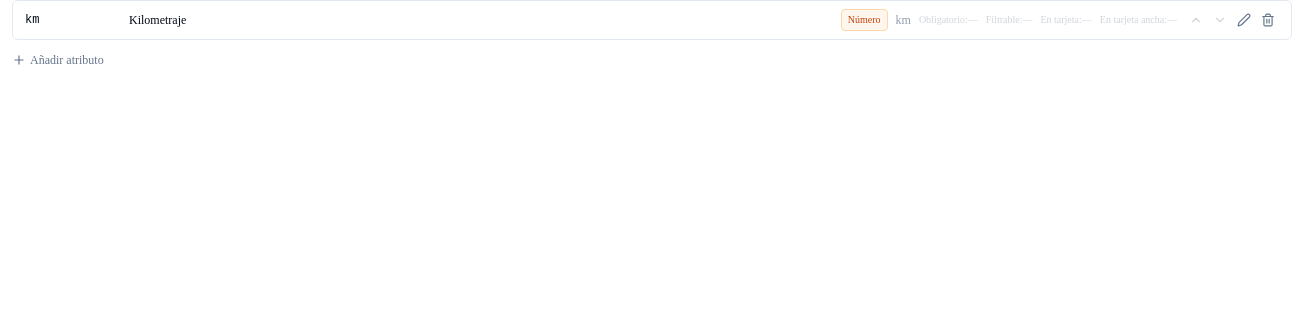
Test case: AttributeSchemaEditor — showLabel / showUnit › atributo CON unidad sin configurar: showLabel desmarcado, showUnit marcado (reproduce la regla anterior)
Click the button with test id "edit-attr-km": click(1244, 20) top-left (1233, 9), bottom-right (1255, 31)
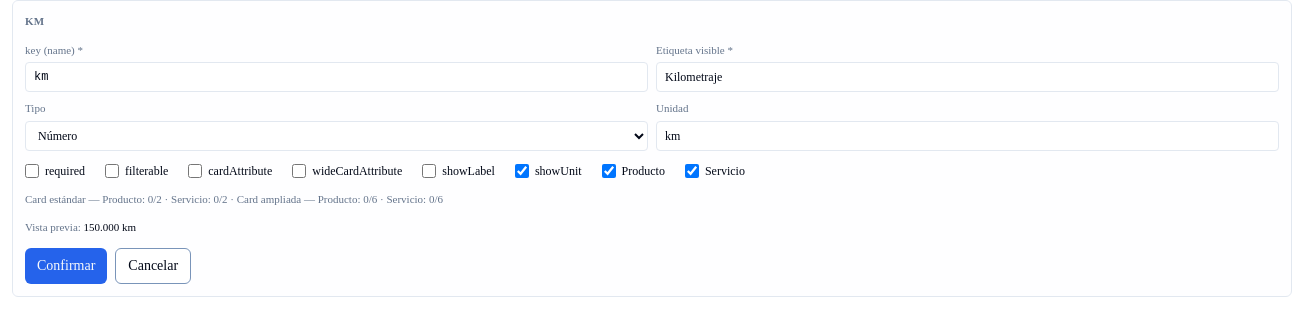
Expected: the checkbox with test id "show-label-checkbox" is not checked, top-left (422, 164), bottom-right (436, 178)
Expected: the checkbox with test id "show-unit-checkbox" is checked, top-left (515, 164), bottom-right (529, 178)
Expected: the element with test id "attr-preview" shows "150.000 km", top-left (84, 221), bottom-right (136, 233)
